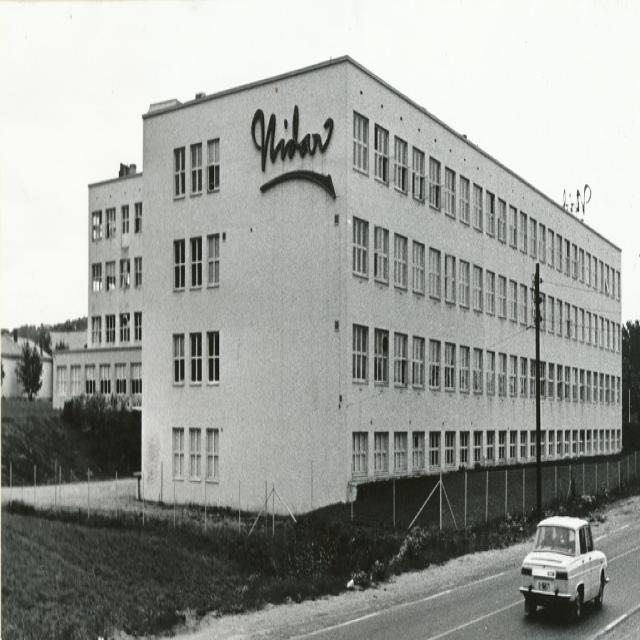car: (523, 505, 609, 616)
